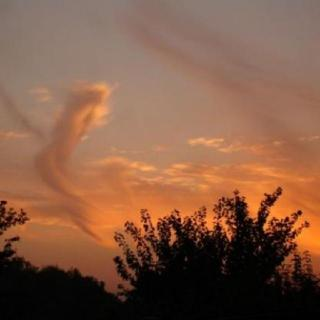Altocumulus: (4, 76, 154, 235)
